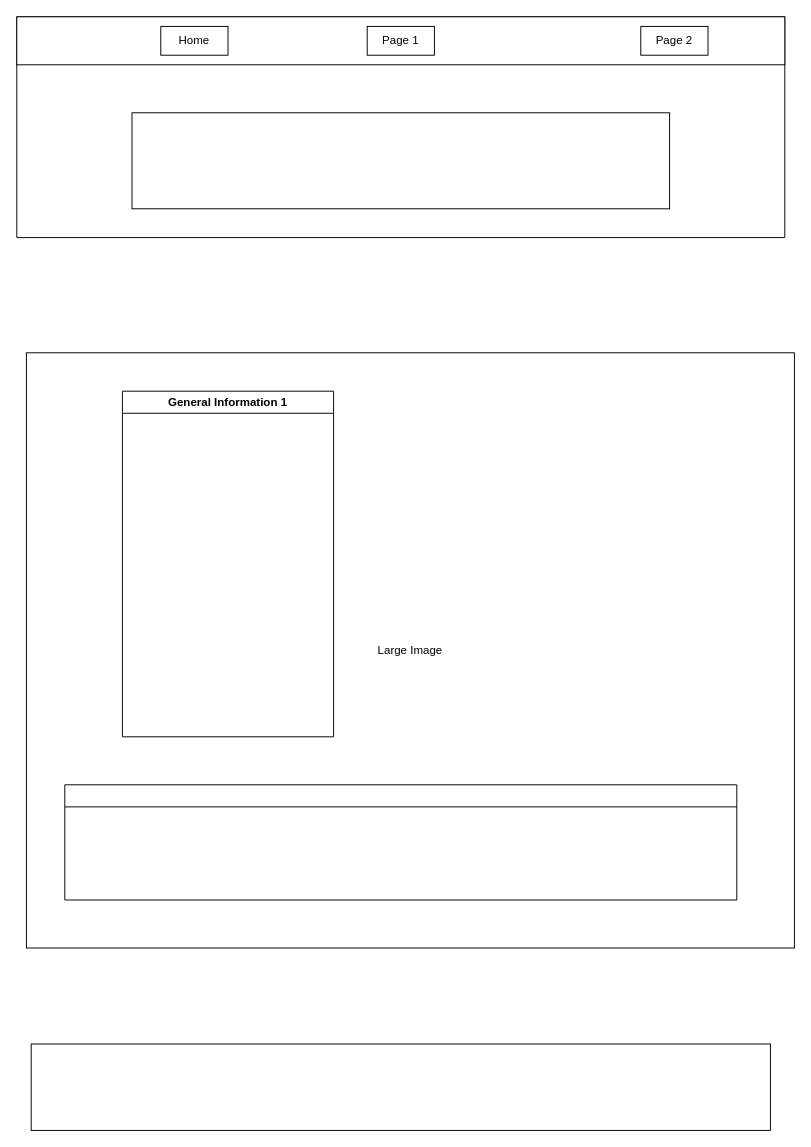
Image size: 811x1147. Some labels were removed from this diagram. Here are the shapes that lost their labels. From the top down, the centre of each, then its label:
At (x=400, y=160): "Andalucia".
At (x=400, y=842): "General Information 2".
At (x=400, y=1086): "Footer".
